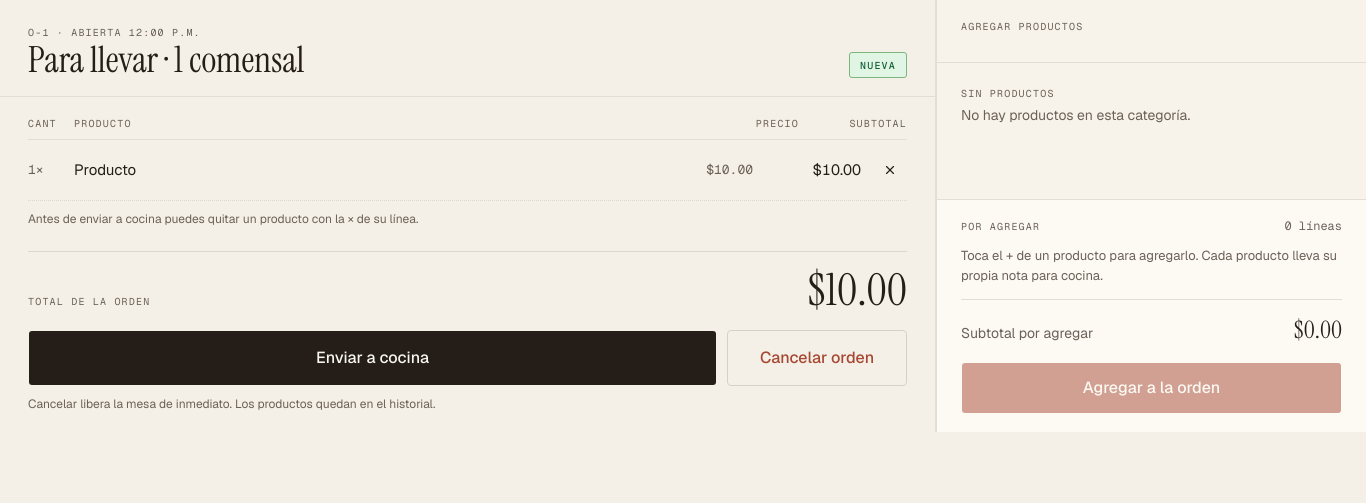
Test: blocks a second send while pending and invalidates only order data after success
Click the button "Enviar a cocina". click: [372, 358]
box: 28,330 -> 717,386
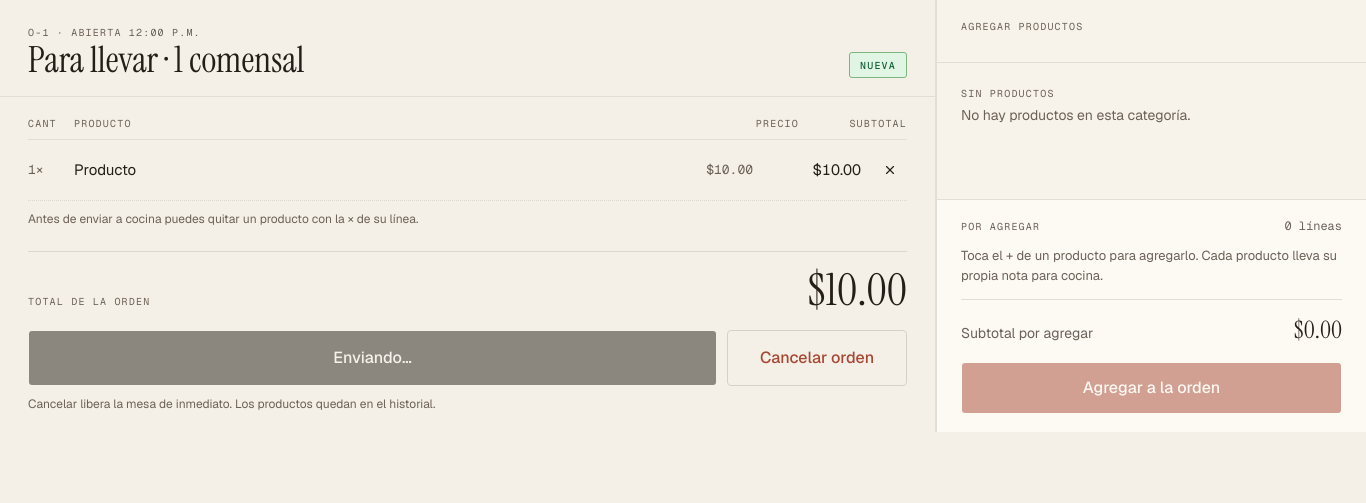
Expected: the button "Enviando…" is disabled
Click the button "Enviando…". click: [372, 358]
box: 28,330 -> 717,386
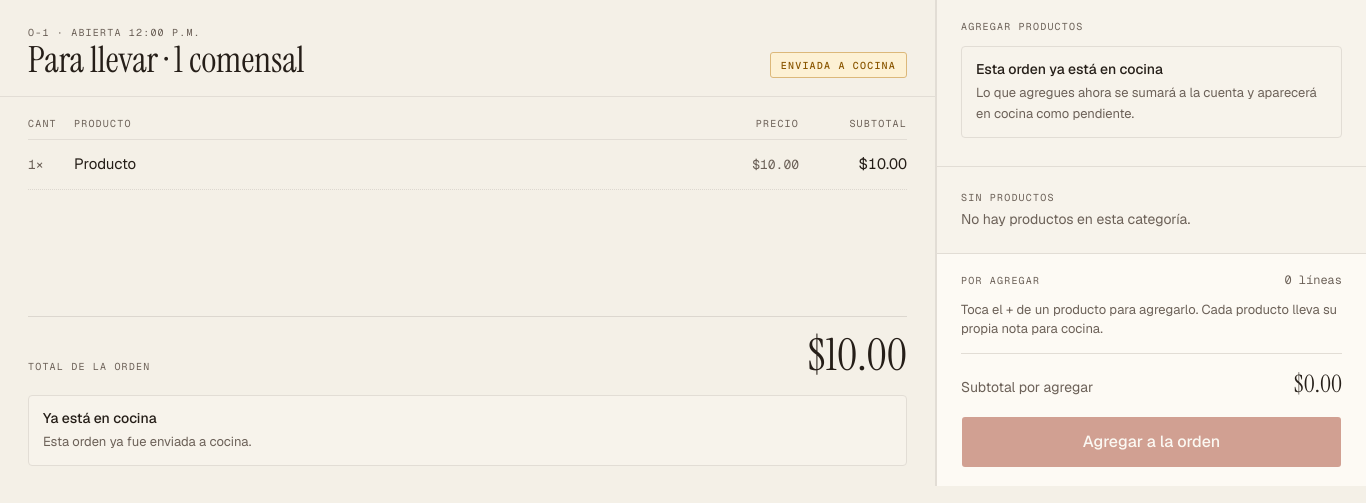
Expected: the text "Ya está en cocina" is shown, 43,409 -> 157,427
